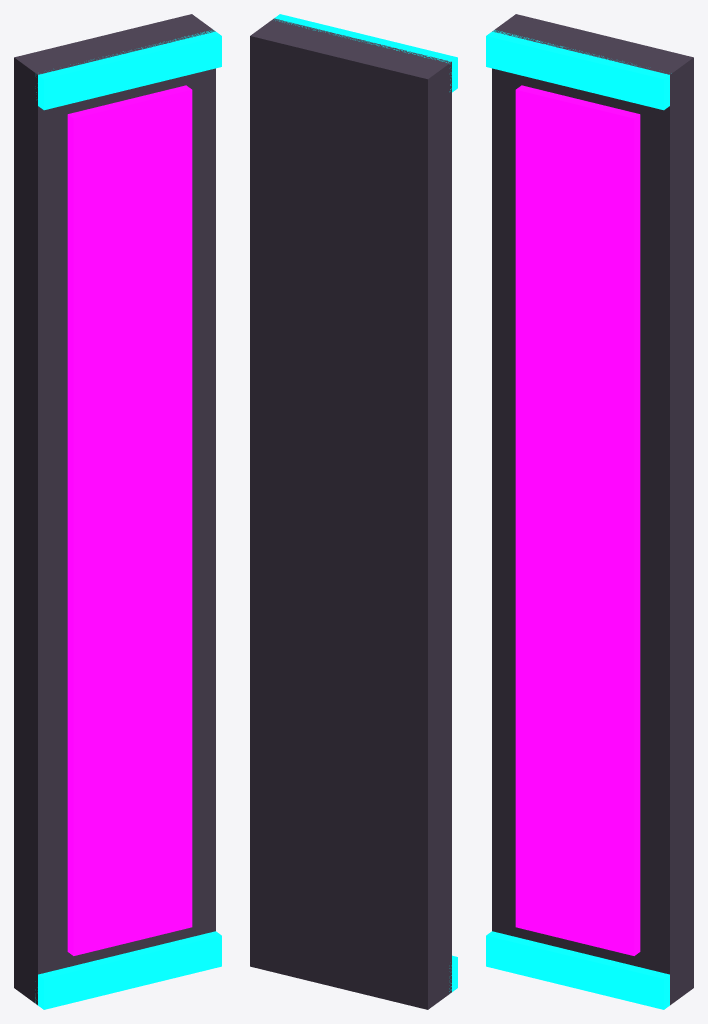
File: SIGN_Neon_Vertical_SM.glb
3 views of the same model, side by side, from view 1: azimuth 30°, elevation 25°; view 2: azimuth 150°, elevation 25°; view 3: azimuth 330°, elevation 25° (orthographic).
Parts seen in each view (by area): view 1: SIGN_Neon_Vertical_SM; view 2: SIGN_Neon_Vertical_SM; view 3: SIGN_Neon_Vertical_SM.
Part boxes in pixels (x1,y1,x2,y2): SIGN_Neon_Vertical_SM: (14,14,221,1009); SIGN_Neon_Vertical_SM: (250,14,457,1009); SIGN_Neon_Vertical_SM: (486,14,693,1009).
Bounding box in the file's own units: 0.6 × 3 × 0.175.
